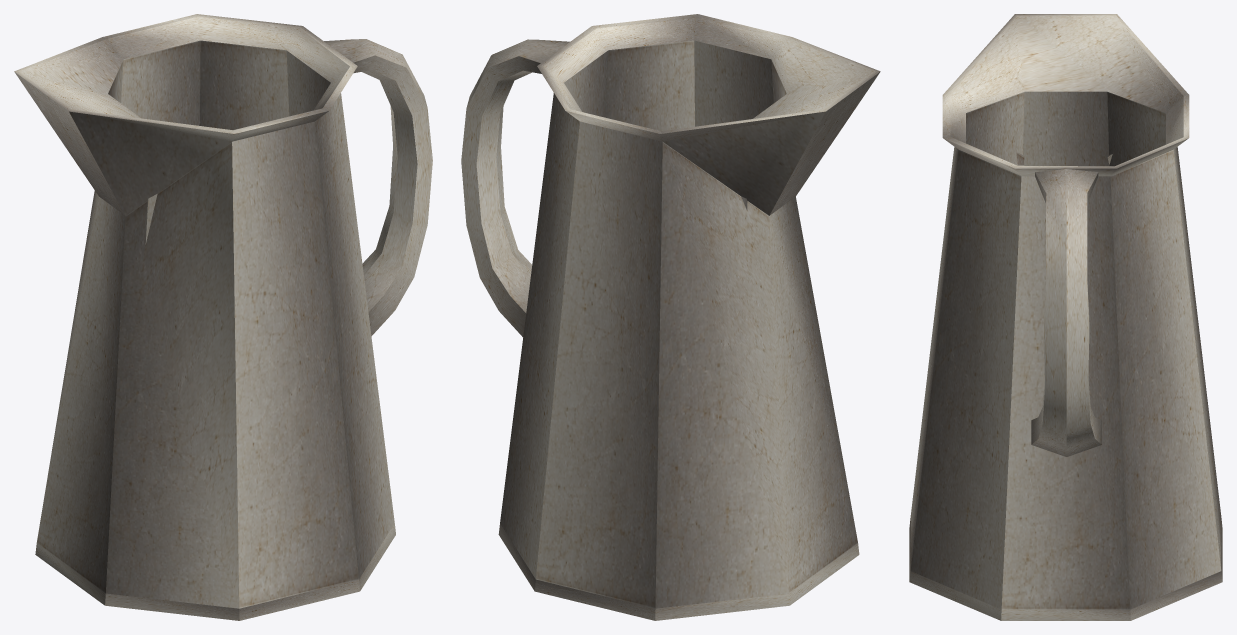
The model's file is mm9_deco_pitcher01.glb.
3 views of the same model, side by side, from view 1: azimuth 30°, elevation 25°; view 2: azimuth 150°, elevation 25°; view 3: azimuth 270°, elevation 25° (orthographic). The views are drawn at different scales.
Parts seen in each view (by area): view 1: Pitcher01; view 2: Pitcher01; view 3: Pitcher01.
Part boxes in pixels (x1=…): Pitcher01: x1=14, y1=14, x2=432, y2=620; Pitcher01: x1=461, y1=14, x2=880, y2=620; Pitcher01: x1=909, y1=14, x2=1222, y2=620.
Size of the model in its own units: 0.4142 by 0.5068 by 0.3114.
Materials: 1 (1 with a texture image).
